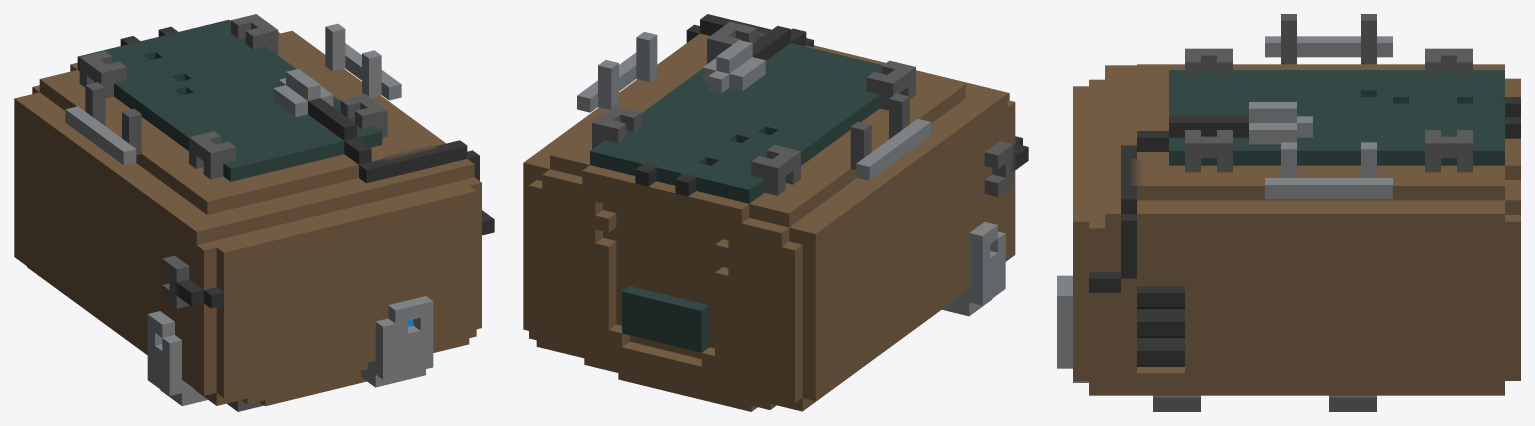
File: Body2.fbx
3 views of the same model, side by side, from view 1: azimuth 30°, elevation 25°; view 2: azimuth 150°, elevation 25°; view 3: azimuth 270°, elevation 25° (orthographic). The views are drawn at different scales.
Visible parts, largest first — view 1: Body2; view 2: Body2; view 3: Body2.
Part boxes in pixels (x1,y1,x2,y2): Body2: [14, 14, 494, 411]; Body2: [523, 14, 1028, 411]; Body2: [1057, 14, 1520, 411].
Bounding box in the file's own units: 120 × 100 × 145.
